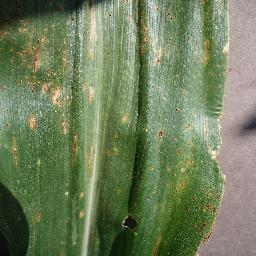Gray_Leaf_Spot: (0, 0, 61, 108), (193, 162, 226, 254), (216, 9, 241, 110), (196, 110, 232, 165), (141, 7, 159, 66), (58, 109, 76, 161), (82, 0, 94, 60), (195, 35, 214, 69), (79, 81, 95, 111), (117, 209, 138, 231), (8, 137, 23, 166), (77, 188, 89, 217), (117, 108, 132, 128), (152, 231, 165, 254), (85, 145, 95, 173), (26, 117, 42, 134), (107, 142, 123, 155), (154, 125, 164, 144), (31, 207, 40, 224)
